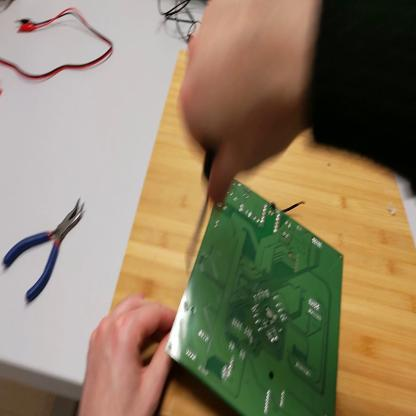hand: (181, 2, 319, 208), (79, 300, 179, 415)
low voltage board: (166, 185, 347, 415)
pliers: (4, 191, 87, 305)
screwdriver-: (188, 145, 218, 273)
working area: (108, 50, 416, 415)
